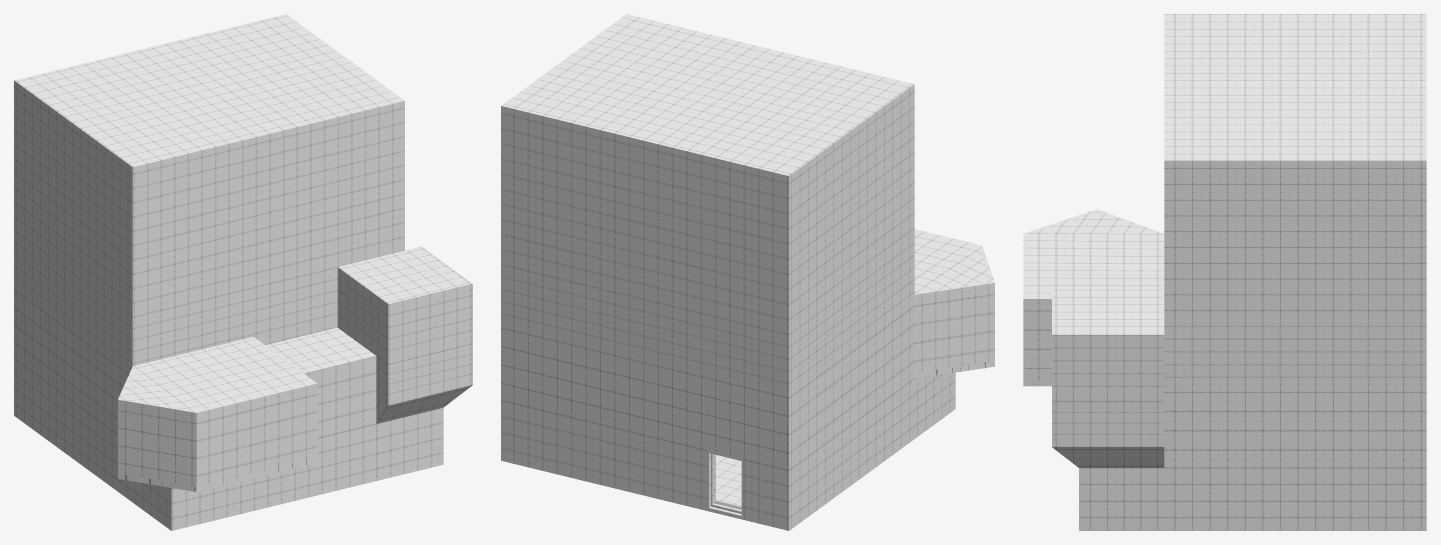
File: M_ConvStore.FBX
The picture shows the model from 3 angles, left to right: view 1: azimuth 30°, elevation 25°; view 2: azimuth 150°, elevation 25°; view 3: azimuth 270°, elevation 25°; orthographic projection. The views are drawn at different scales.
Parts seen in each view (by area): view 1: Walls; view 2: Walls, Floor; view 3: Walls.
Part boxes in pixels (x1,y1,x2,y2): Walls: (14, 14, 472, 530); Walls: (501, 14, 994, 530); Floor: (716, 455, 741, 506); Walls: (1023, 14, 1426, 530).
Bounding box in the file's own units: 2453 × 2349 × 2318.
Materials: 1 (1 with a texture image).
